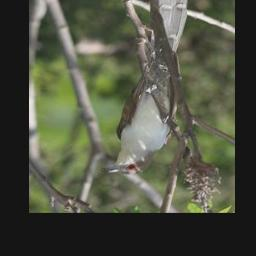Cuckoo: (101, 0, 192, 178)
